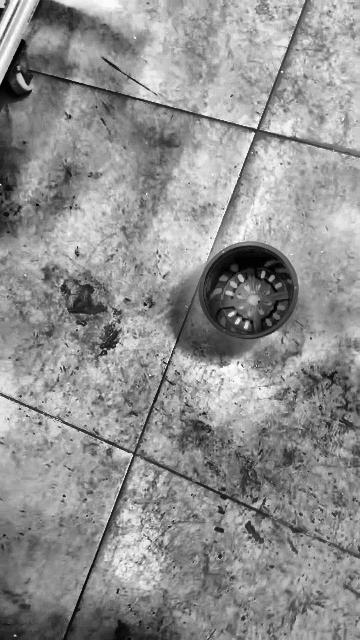pot: (197, 243, 298, 340)
